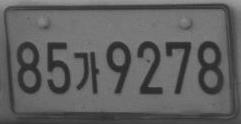2: (136, 40, 163, 95)
5: (46, 41, 71, 95)
7: (164, 41, 191, 94)
8: (196, 40, 225, 95), (15, 40, 42, 94)
9: (105, 39, 131, 94)
가: (74, 51, 99, 94)
